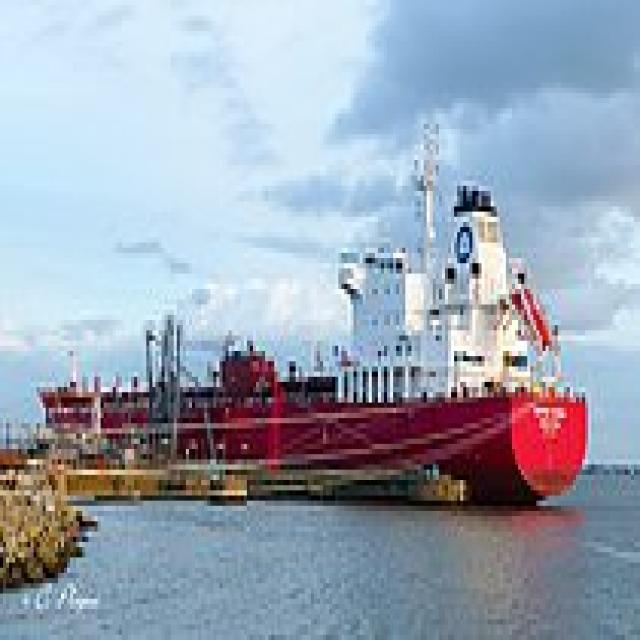Tanker: (31, 113, 588, 500)
